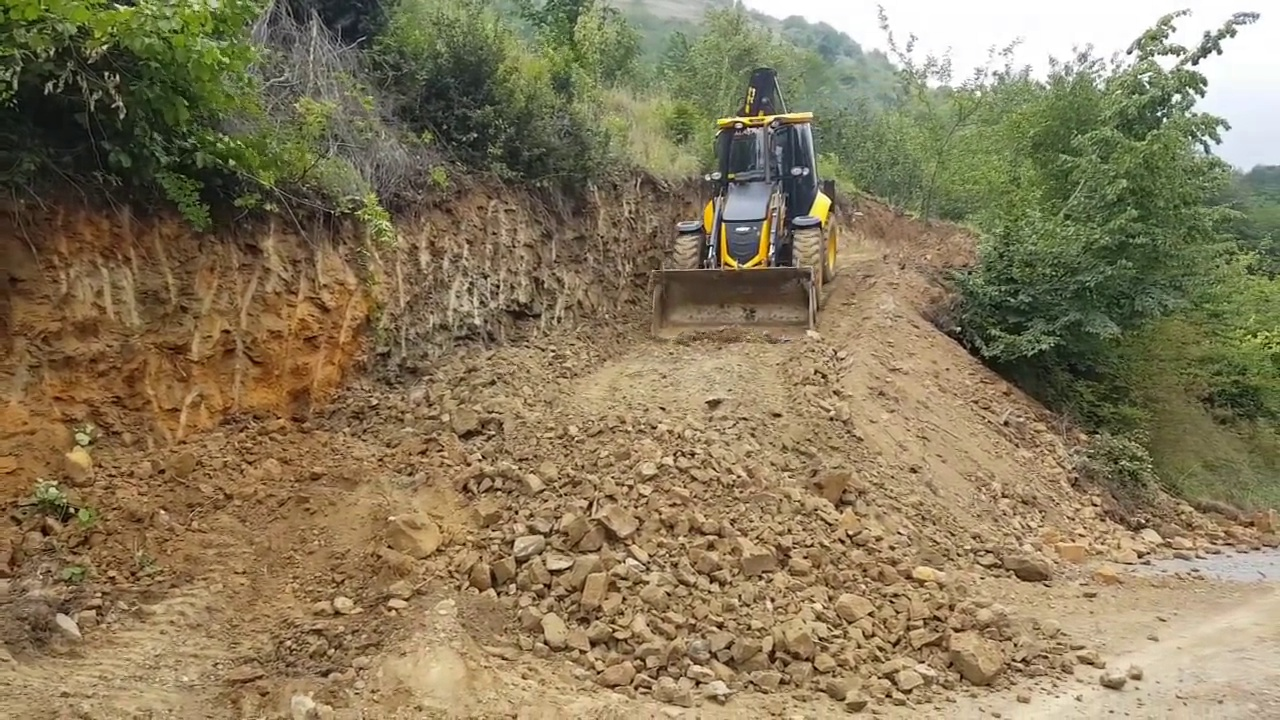wheel loader: (647, 66, 841, 334)
